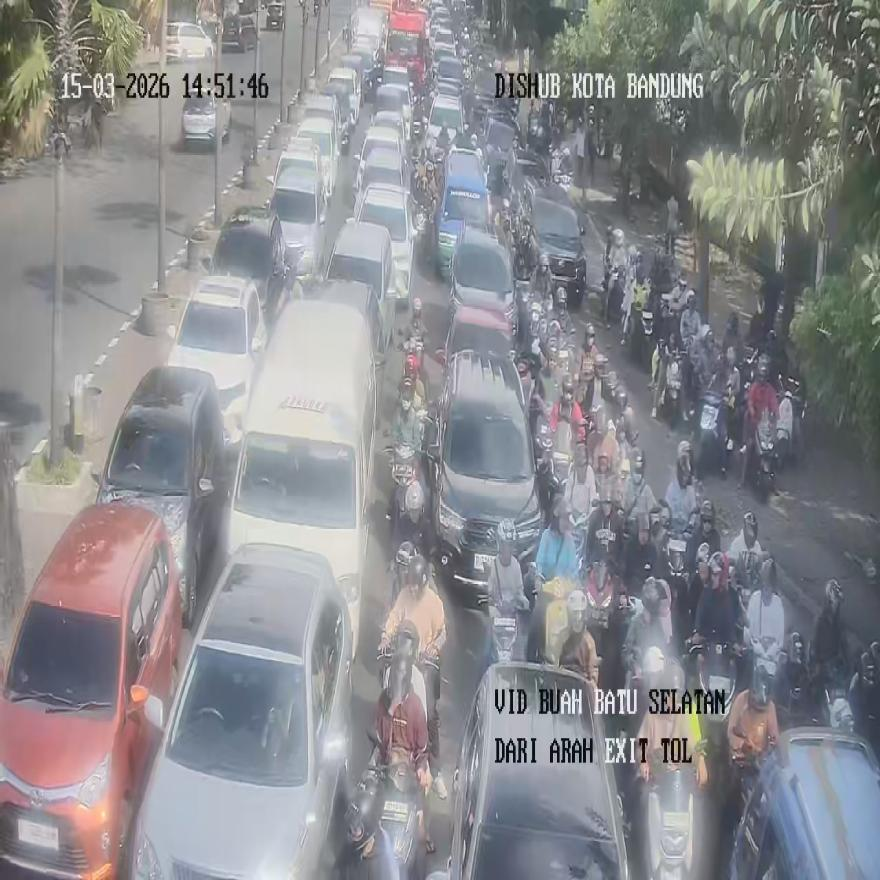Bis: (226, 299, 380, 645)
Motor: (131, 544, 353, 879), (0, 502, 182, 879), (448, 662, 629, 879), (93, 365, 228, 627), (426, 350, 542, 596), (167, 273, 267, 445), (210, 205, 289, 318), (434, 150, 489, 276), (450, 230, 517, 329)
Truk: (362, 735, 425, 878), (646, 764, 694, 879), (691, 643, 737, 746), (600, 592, 642, 690), (775, 632, 813, 728), (695, 390, 732, 479), (584, 563, 615, 655), (385, 444, 419, 524), (777, 377, 805, 465), (751, 418, 777, 501), (817, 676, 853, 732), (731, 748, 760, 816), (491, 609, 527, 661), (731, 580, 760, 644), (537, 449, 561, 524), (667, 535, 691, 609), (724, 379, 744, 461), (663, 350, 684, 427), (662, 282, 686, 349), (630, 305, 653, 371), (553, 420, 573, 492), (751, 645, 780, 694), (649, 250, 678, 294), (515, 280, 533, 350), (589, 354, 609, 414), (572, 511, 591, 572), (604, 267, 625, 322), (403, 329, 424, 384), (492, 617, 517, 662), (738, 344, 759, 393), (513, 231, 534, 279), (555, 287, 573, 336), (551, 148, 573, 188), (528, 289, 543, 344), (667, 535, 686, 578), (412, 664, 426, 722), (602, 371, 620, 404), (414, 206, 428, 239), (411, 112, 423, 143)
